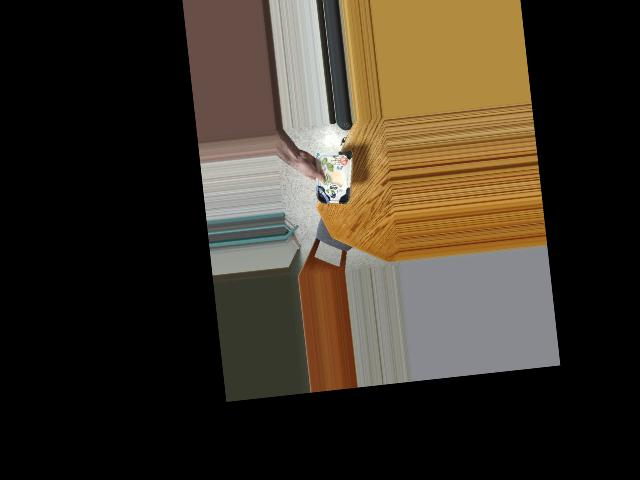cheese: (305, 149, 357, 205)
